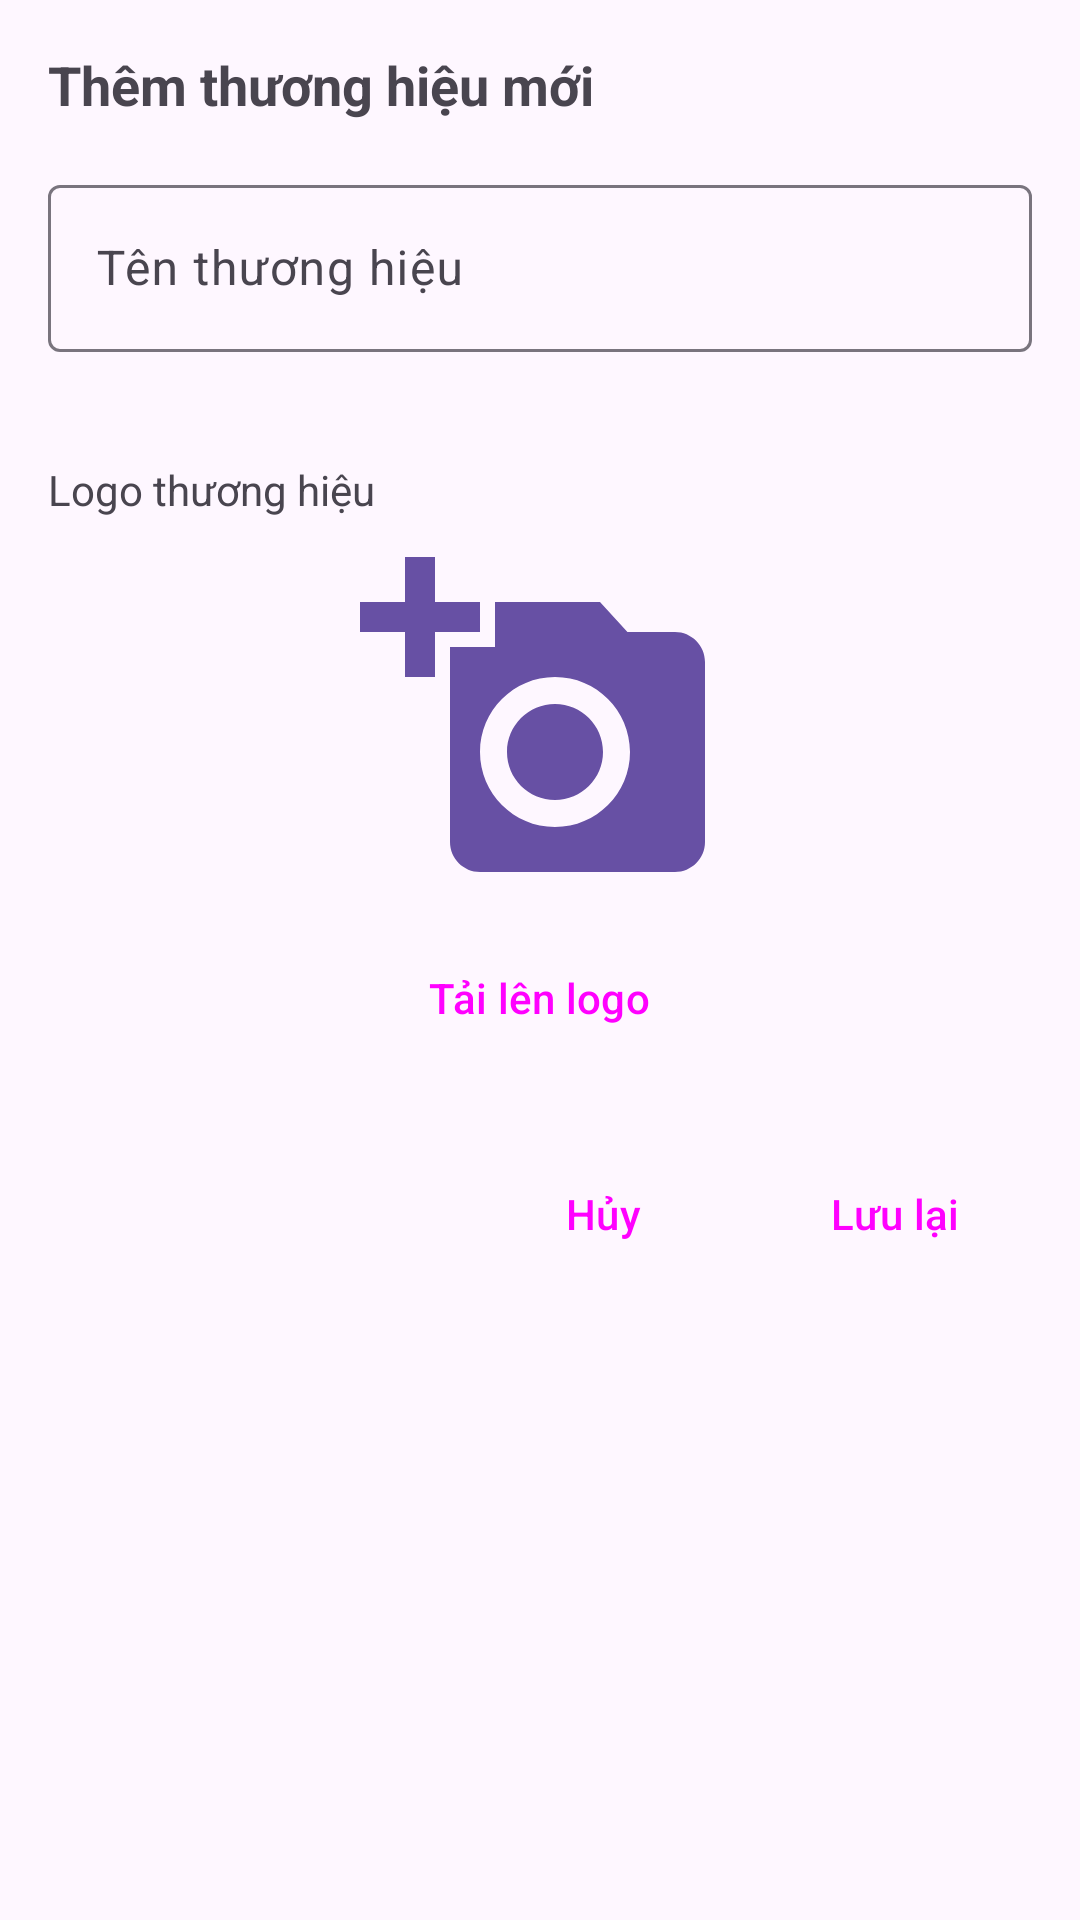

Named icons in this screenshot (1080 x 1920) and their centers, (x,y):
add photo: (532,714)
